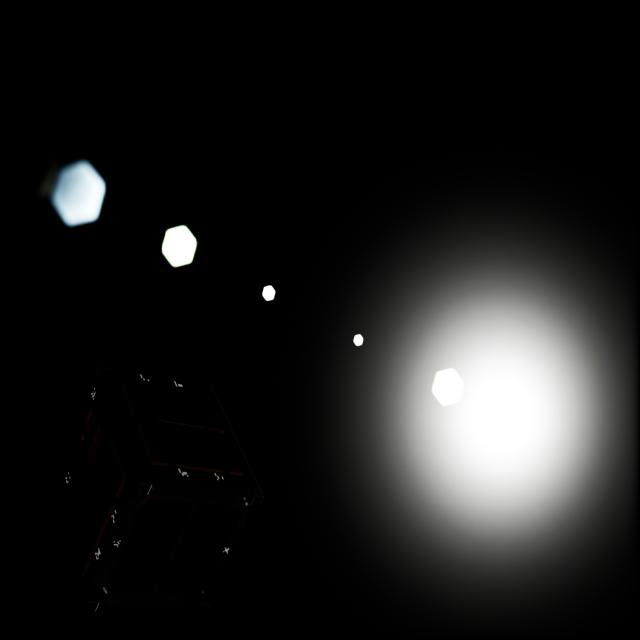medium_debris: (41, 345, 266, 625)
